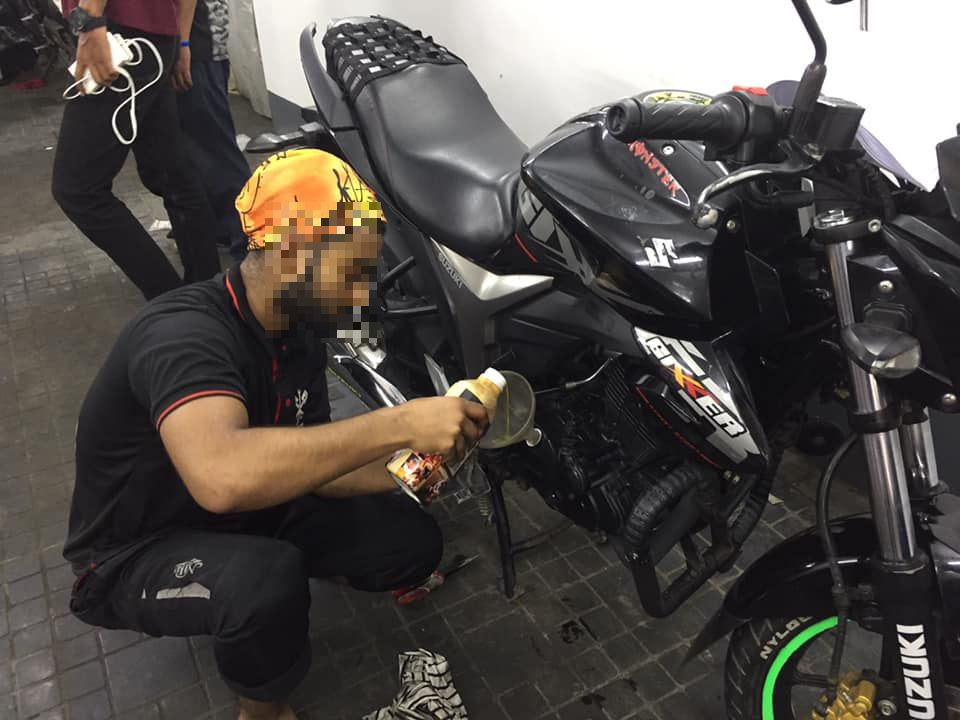bike: (251, 1, 960, 717)
